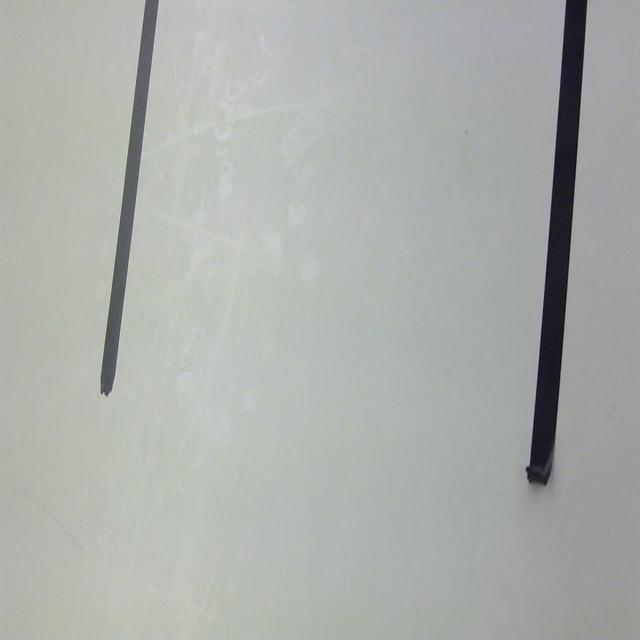tape: (497, 0, 602, 534), (84, 0, 174, 425)
